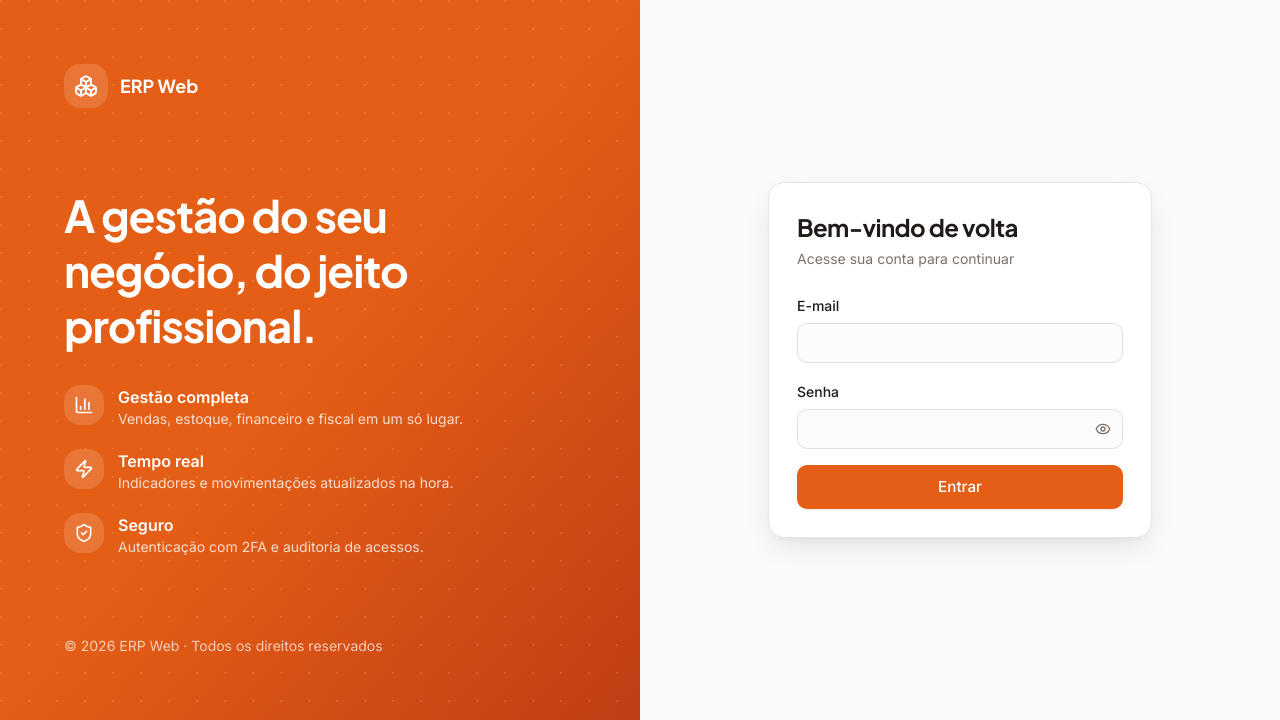
Test: LoginPage › exibe a mensagem de erro quando o login falha
This screenshot has width=1280, height=720.
Type "usuario@teste.com" into the field labelled "E-mail" at (960, 343), box x1=797 y1=323 x2=1123 y2=363
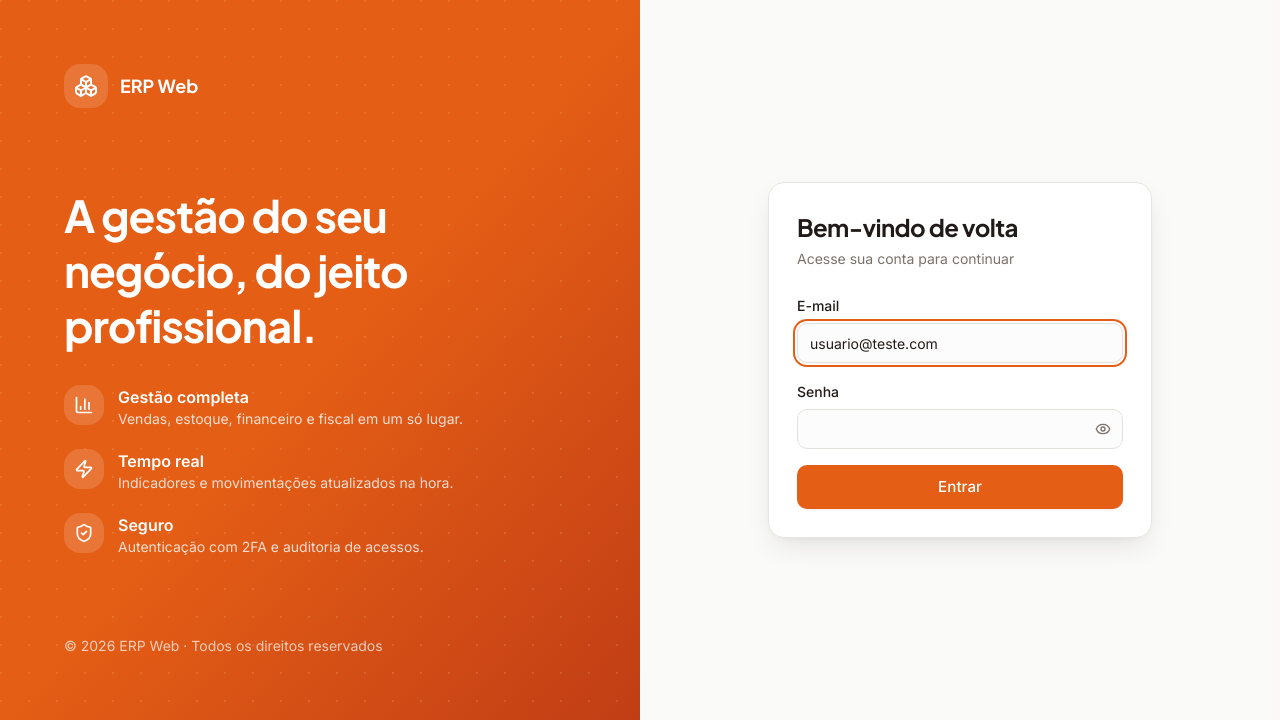
Type "senha-errada" into the password field labelled "Senha" at (960, 429), box x1=797 y1=409 x2=1123 y2=449
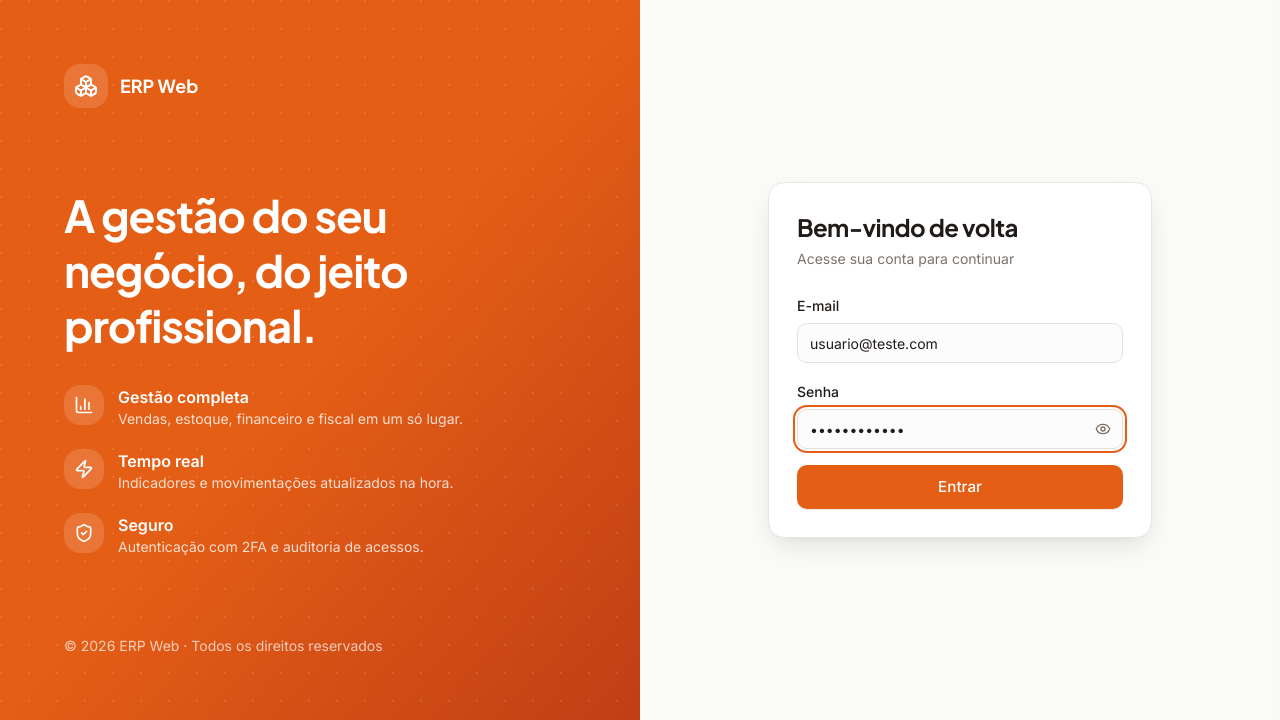
Click the button "Entrar" at (960, 487), box x1=797 y1=465 x2=1123 y2=509
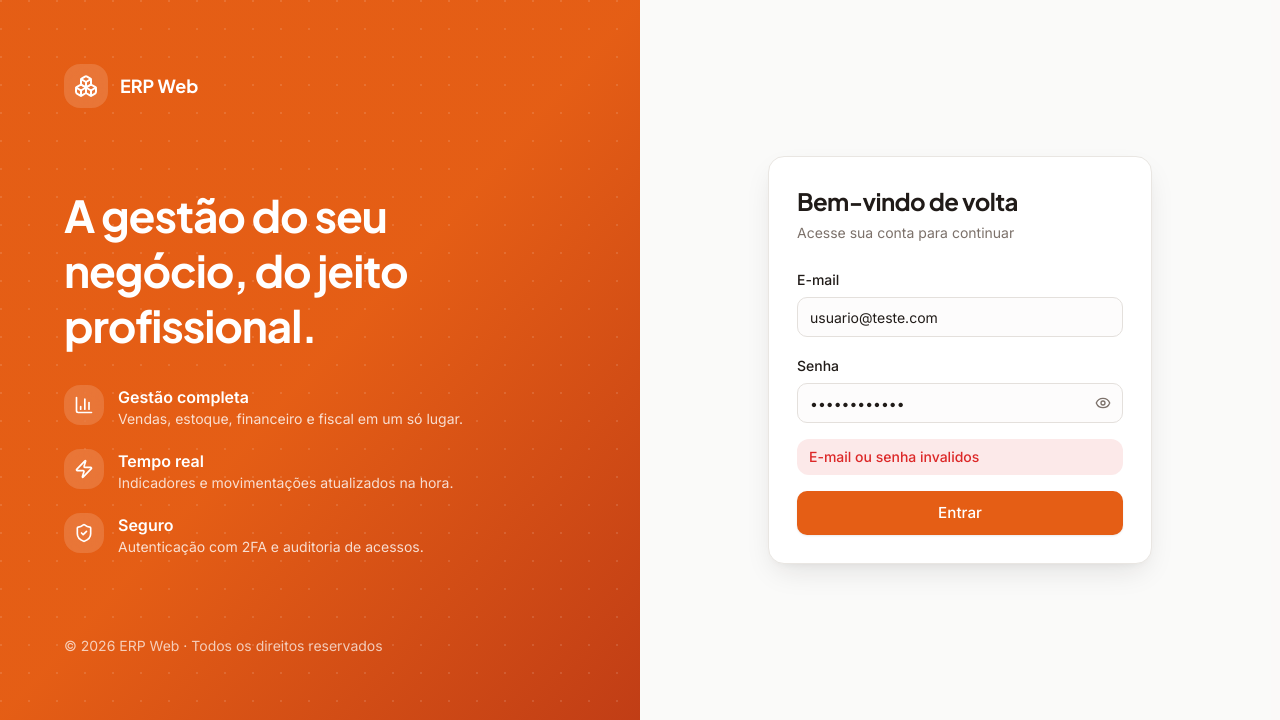
Result: the text "E-mail ou senha invalidos" is shown at x1=797 y1=439 x2=1123 y2=475
